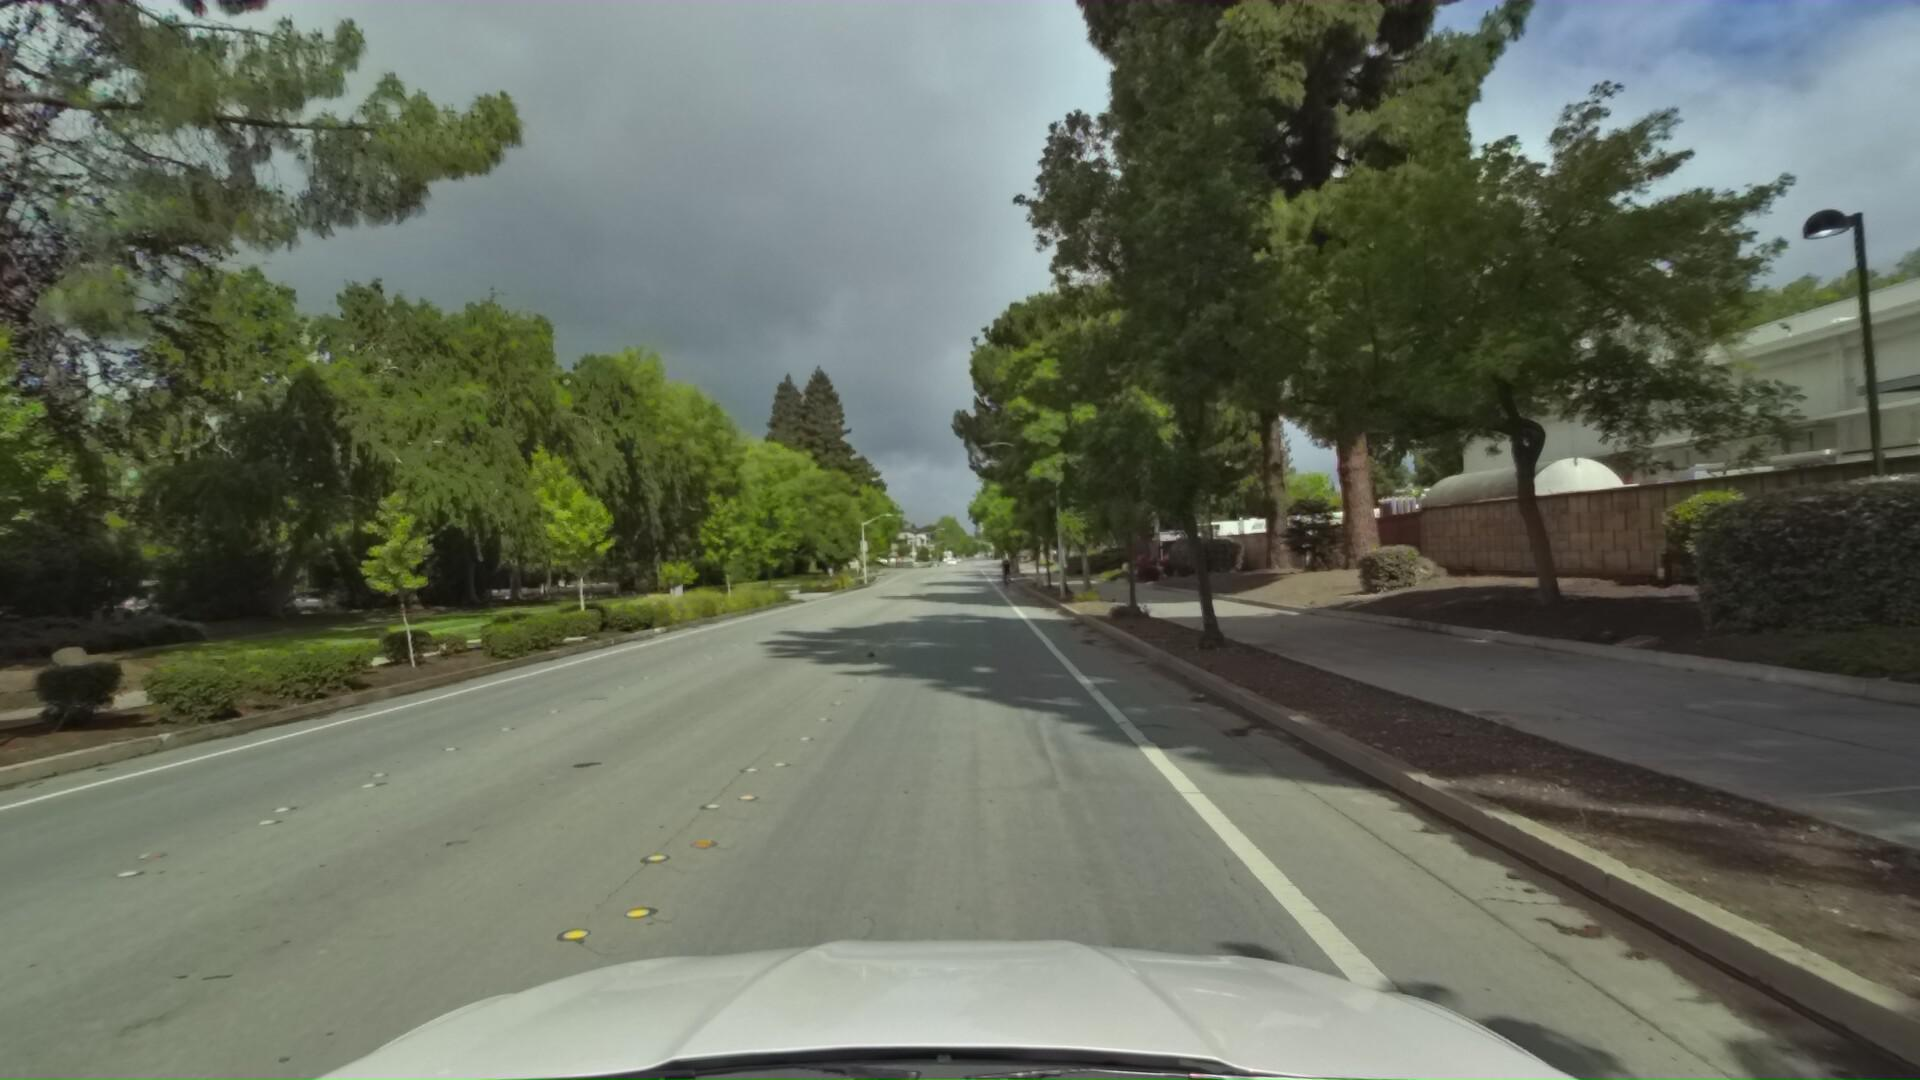bicycle: (996, 553, 1014, 585)
